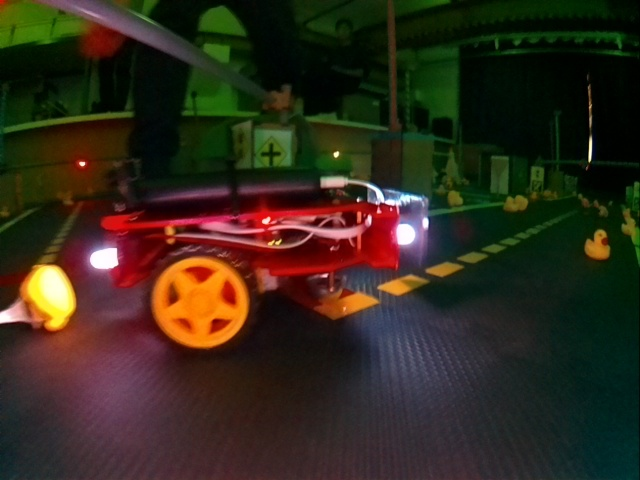Duckie: (21, 263, 73, 333), (585, 230, 611, 260), (516, 196, 528, 211), (505, 197, 517, 211), (448, 191, 459, 204), (599, 206, 607, 215)
Duckiebot: (99, 169, 428, 348)
Intersection sign: (256, 137, 289, 168)
Signal sign: (230, 126, 249, 162)
